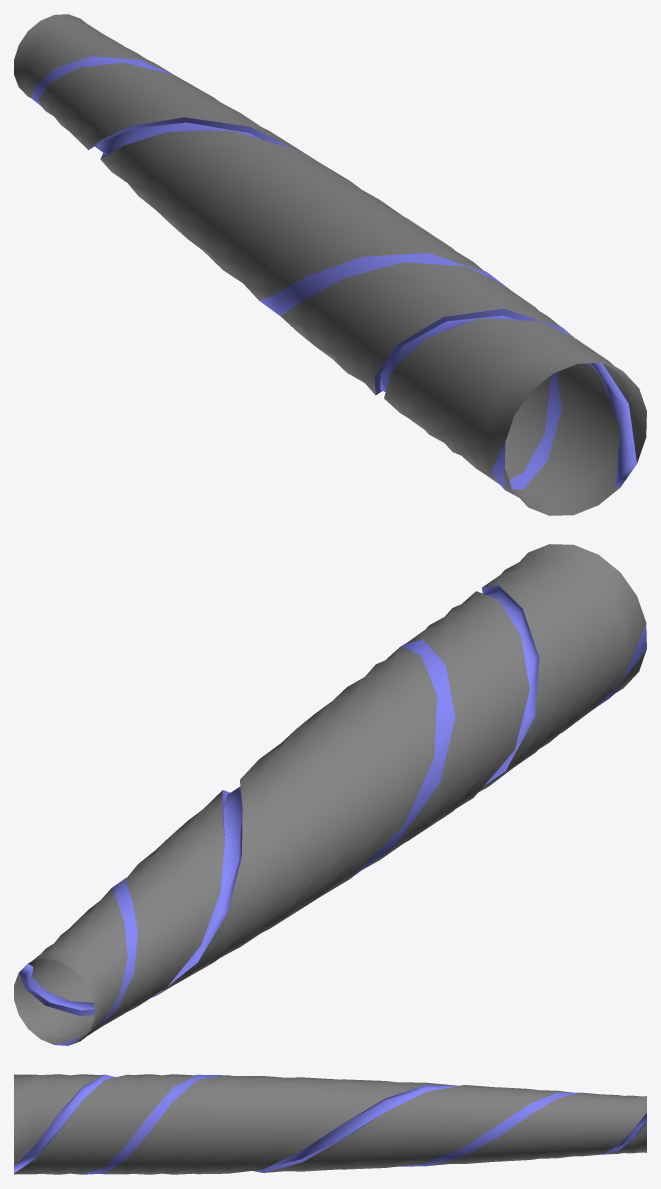
File: TunnelLegGame.fbx
3 views of the same model, one above another, from view 1: azimuth 30°, elevation 25°; view 2: azimuth 150°, elevation 25°; view 3: azimuth 270°, elevation 25° (orthographic). The views are drawn at different scales.
Parts seen in each view (by area): view 1: Tunel; view 2: Tunel; view 3: Tunel.
Boxes of the visible parts, box(x1,y1,x2,y2) form: Tunel: box(14, 14, 646, 515); Tunel: box(14, 544, 646, 1045); Tunel: box(14, 1074, 646, 1174).
Bounding box in the file's own units: 2.98 × 18.75 × 2.98.
